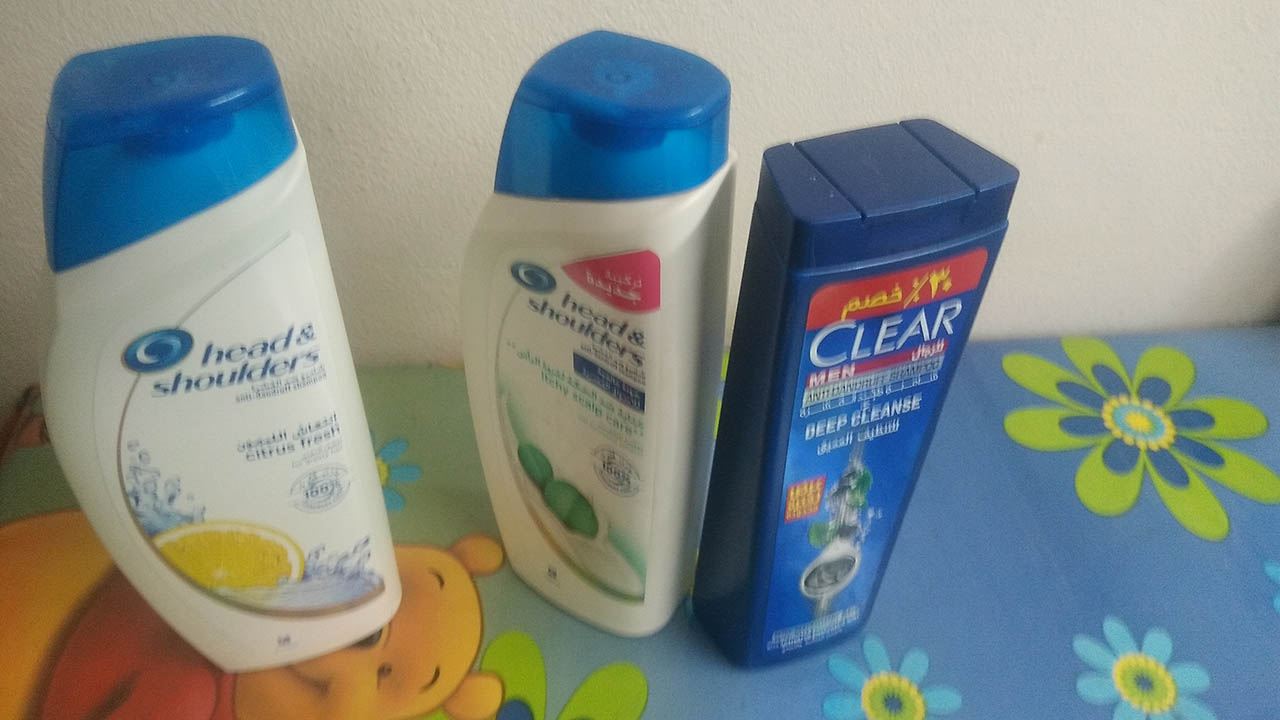Shampoo-Clear 4.7$: (750, 109, 984, 667)
shampoo-Lemon 3.5$: (36, 38, 410, 665)
shampoo-green 4.5$: (468, 48, 736, 629)
